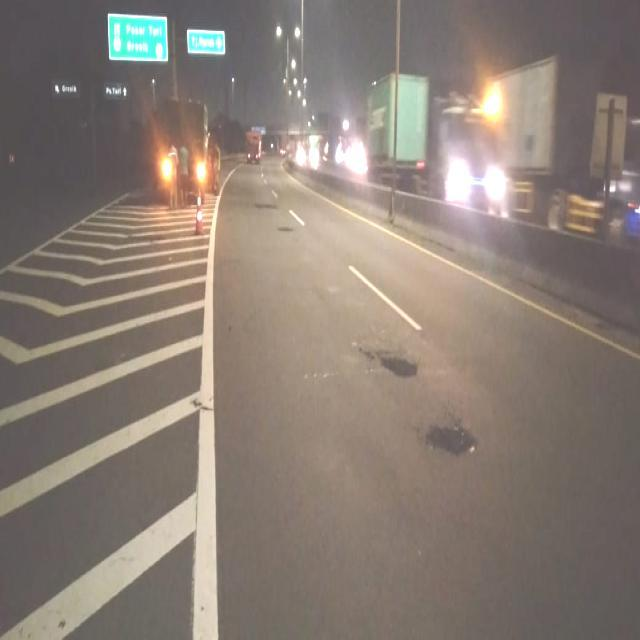Buraco: (415, 410, 482, 459), (354, 345, 422, 380), (252, 202, 280, 211), (275, 225, 295, 233)
